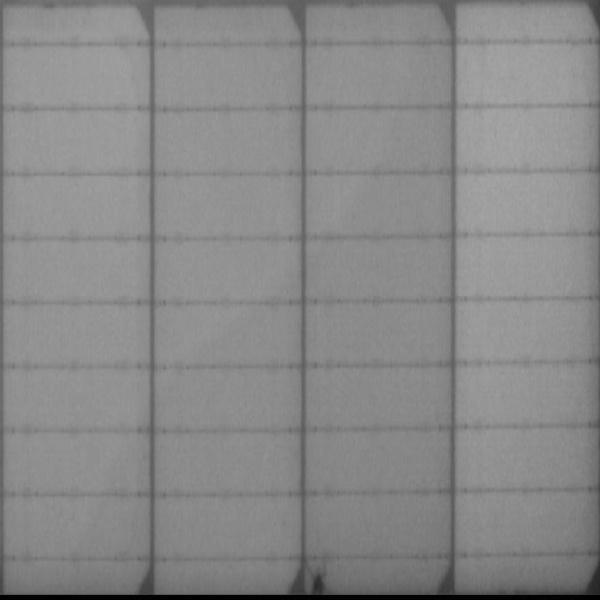broken: (308, 569, 327, 594)
